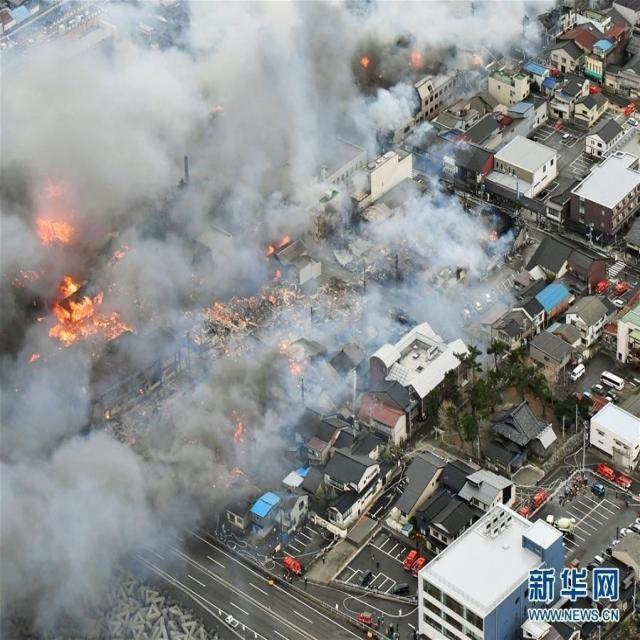Fire: (14, 218, 136, 363), (204, 291, 278, 329), (278, 338, 304, 375), (265, 236, 290, 262), (231, 409, 247, 445), (408, 50, 424, 68), (358, 56, 371, 70)
Smoke: (0, 1, 552, 640)
